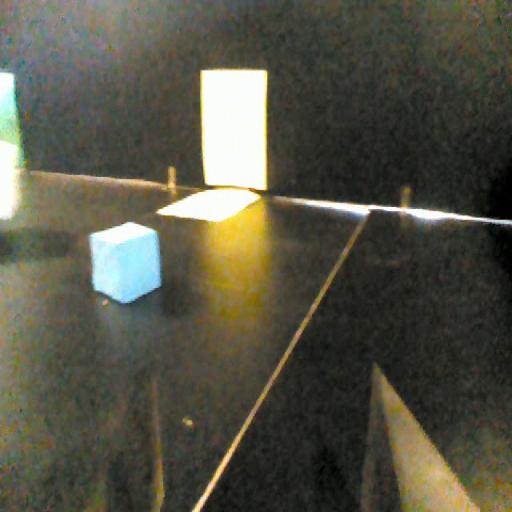cube: (84, 218, 163, 308)
